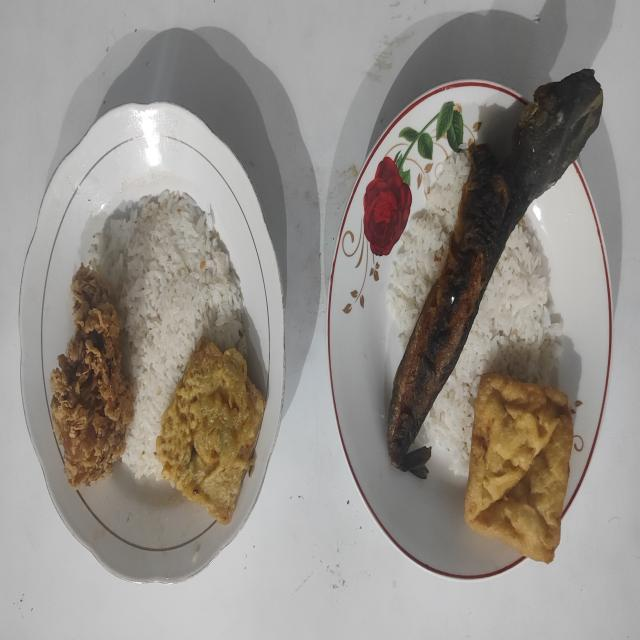nasi_putih: (89, 190, 248, 480), (422, 220, 562, 474), (386, 154, 469, 348)
tahu_goreng: (465, 374, 573, 562)
